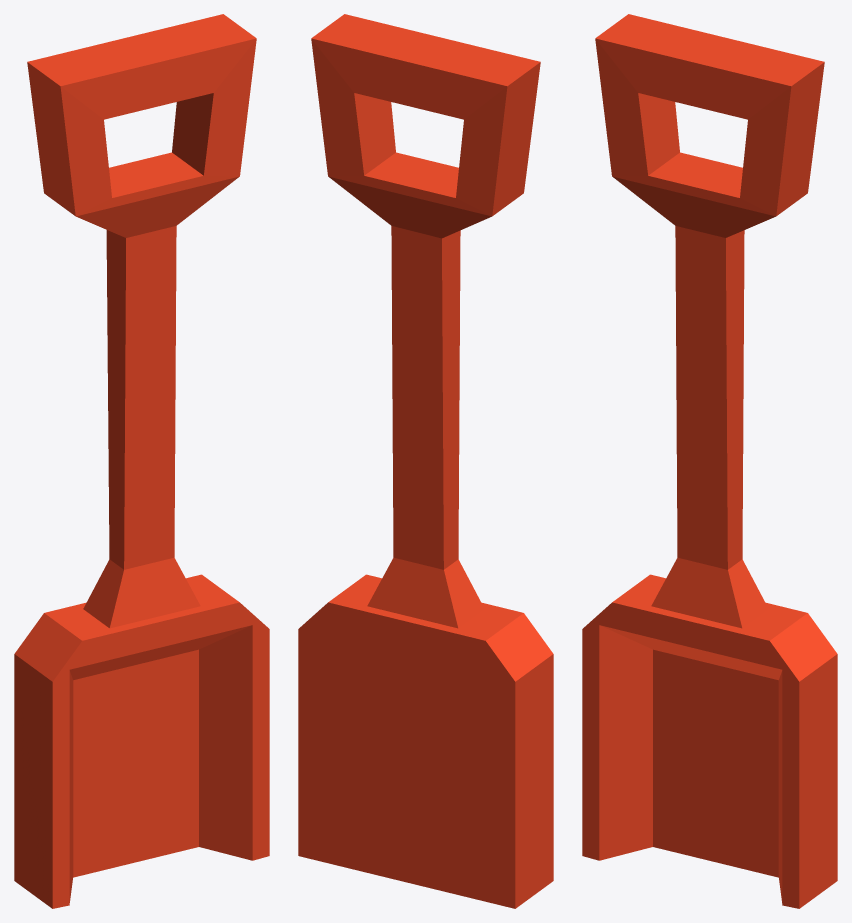
File: SM_Shovel_Toy_City.fbx
The picture shows the model from 3 angles, left to right: view 1: azimuth 30°, elevation 25°; view 2: azimuth 150°, elevation 25°; view 3: azimuth 330°, elevation 25°; orthographic projection.
Parts seen in each view (by area): view 1: SM_Shovel_Toy_City; view 2: SM_Shovel_Toy_City; view 3: SM_Shovel_Toy_City.
Part boxes in pixels (x1=…): SM_Shovel_Toy_City: x1=14, y1=14, x2=269, y2=908; SM_Shovel_Toy_City: x1=298, y1=14, x2=553, y2=908; SM_Shovel_Toy_City: x1=582, y1=14, x2=837, y2=908.
Size of the model in its own units: 0.0771 by 0.2781 by 0.0235.
